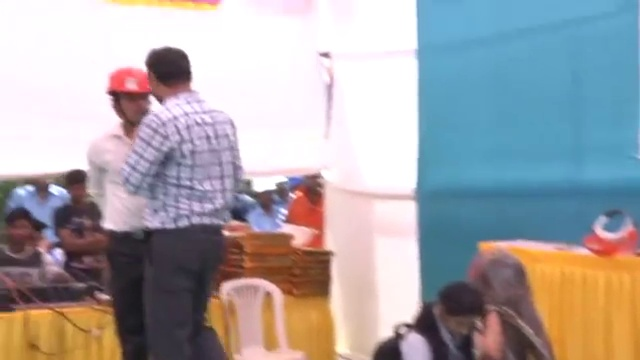helmet: (102, 69, 153, 101), (275, 221, 320, 251), (249, 177, 278, 198)
helmet_off: (138, 48, 202, 106), (432, 277, 483, 345), (468, 258, 529, 310), (0, 210, 36, 255), (61, 170, 87, 206), (302, 177, 325, 209)
helmet_on: (100, 65, 156, 129), (249, 173, 281, 216)
person: (123, 52, 246, 357), (89, 62, 156, 359), (366, 275, 485, 357), (462, 256, 555, 360), (0, 209, 81, 290), (52, 169, 104, 266), (4, 171, 73, 221), (281, 180, 326, 246), (247, 179, 289, 232)
